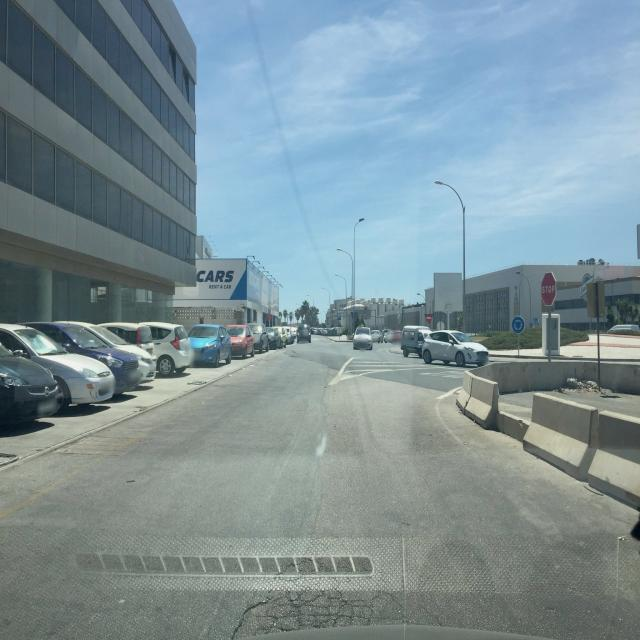car: (0, 321, 116, 412), (21, 320, 156, 395), (96, 321, 194, 377), (0, 341, 57, 432), (421, 329, 489, 367), (186, 324, 232, 367), (399, 326, 434, 358), (224, 325, 256, 358), (247, 322, 270, 352), (608, 322, 640, 337), (352, 328, 373, 350), (264, 327, 284, 348), (296, 324, 312, 344), (278, 326, 290, 346), (378, 329, 392, 343), (389, 329, 404, 342)
